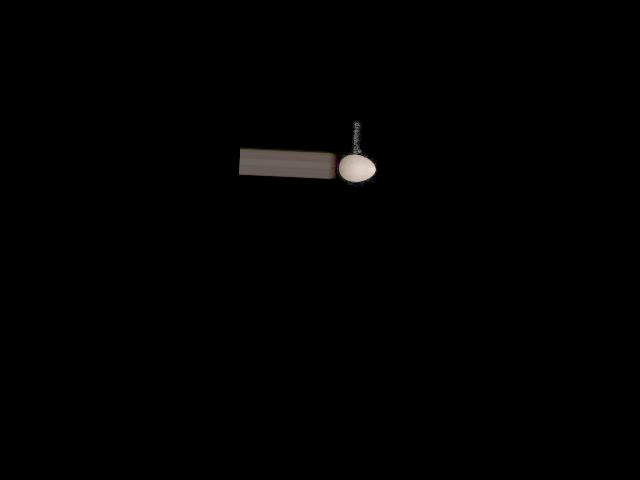egg: (337, 154, 376, 183)
